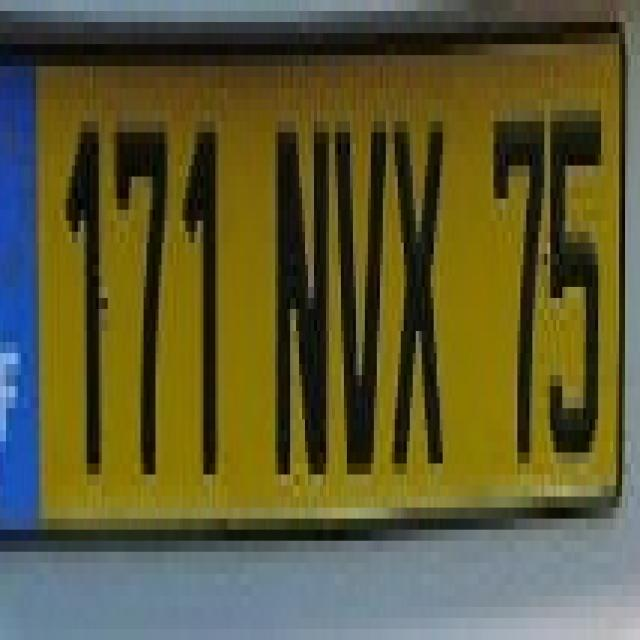1: (178, 105, 226, 480), (61, 105, 106, 480)
5: (546, 94, 606, 458)
7: (112, 105, 169, 480), (488, 100, 544, 463)
N: (270, 105, 330, 480)
V: (333, 94, 388, 480)
X: (390, 105, 447, 469)
